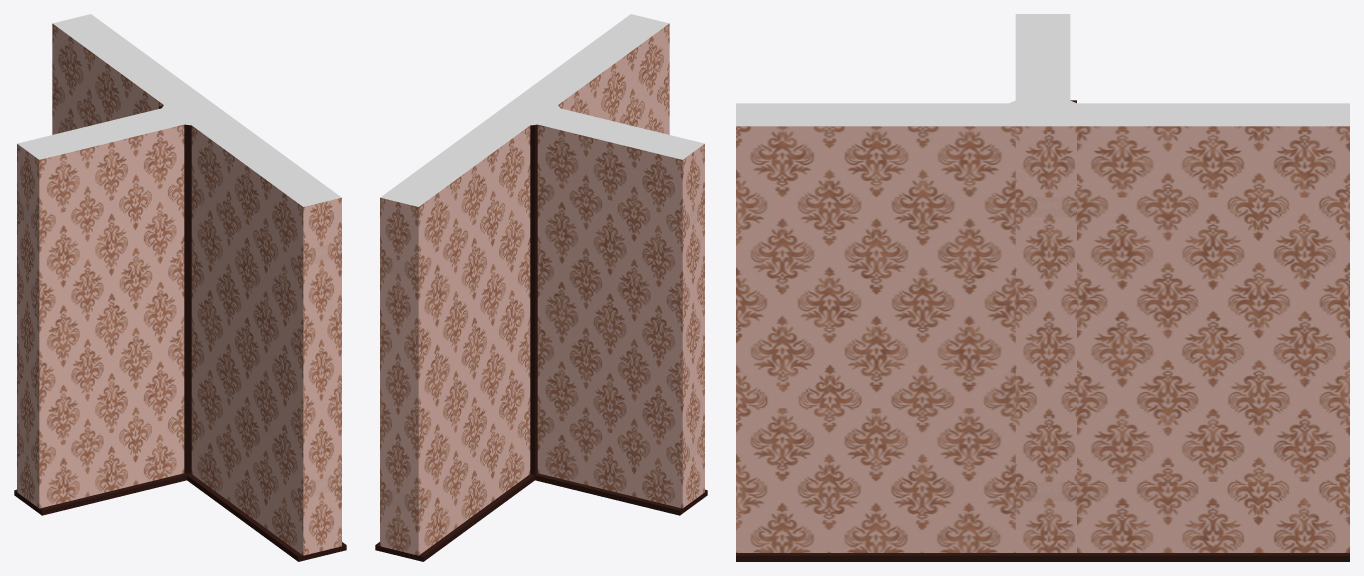
The model's file is wall3way.fbx.
3 views of the same model, side by side, from view 1: azimuth 30°, elevation 25°; view 2: azimuth 150°, elevation 25°; view 3: azimuth 270°, elevation 25° (orthographic). The views are drawn at different scales.
Visible parts, largest first — view 1: wall3way; view 2: wall3way; view 3: wall3way.
Boxes of the visible parts, x1,y1,x2,y2 form: wall3way: [14, 14, 346, 561]; wall3way: [375, 14, 707, 561]; wall3way: [736, 14, 1349, 561].
Size of the model in its own units: 400 by 700 by 900.
